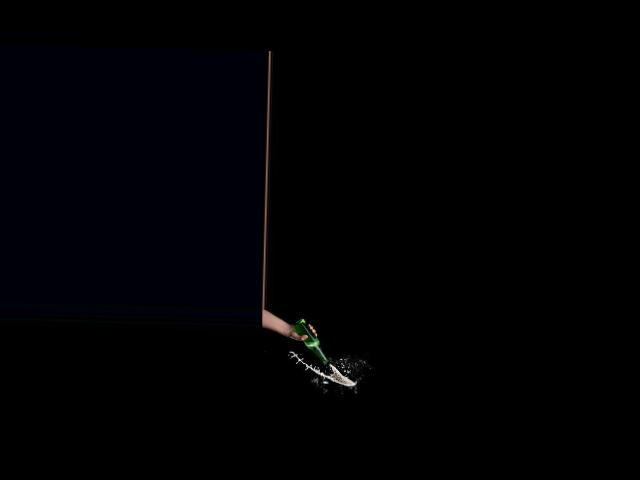beer: (292, 317, 329, 363)
